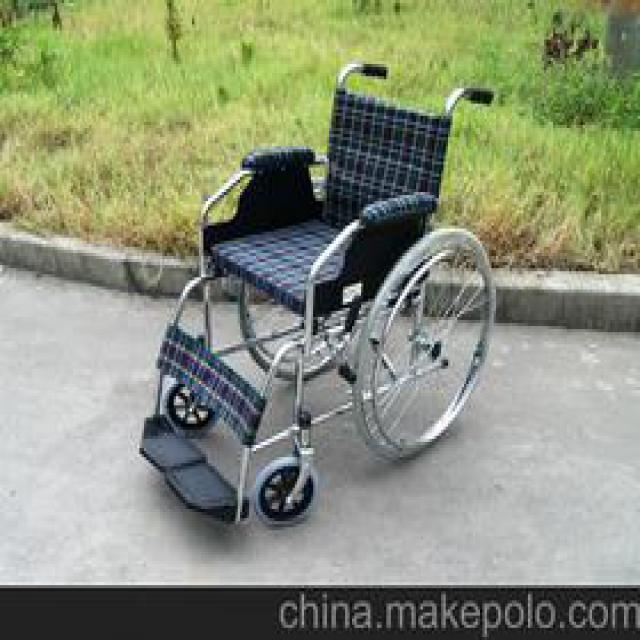wheelchair: (126, 55, 510, 528)
